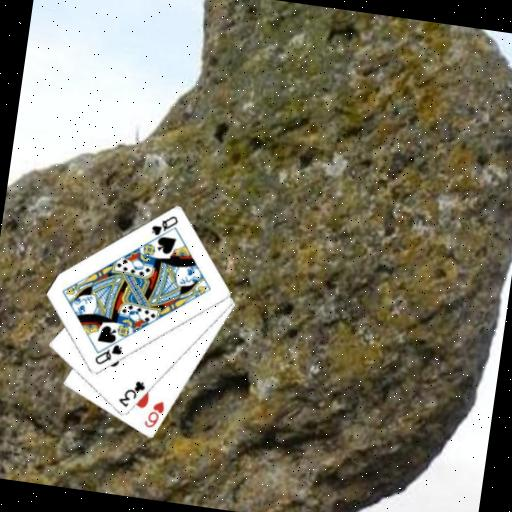3C: (114, 376, 147, 412)
6H: (141, 397, 167, 432)
QS: (91, 339, 125, 369), (148, 210, 181, 240)
